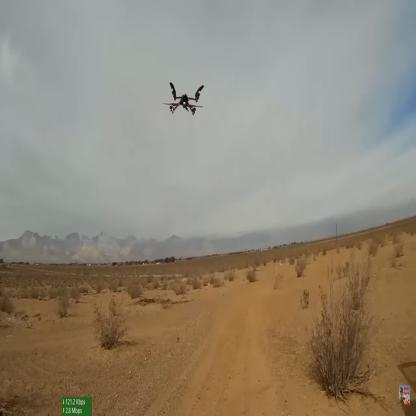drone: (164, 76, 206, 119)
